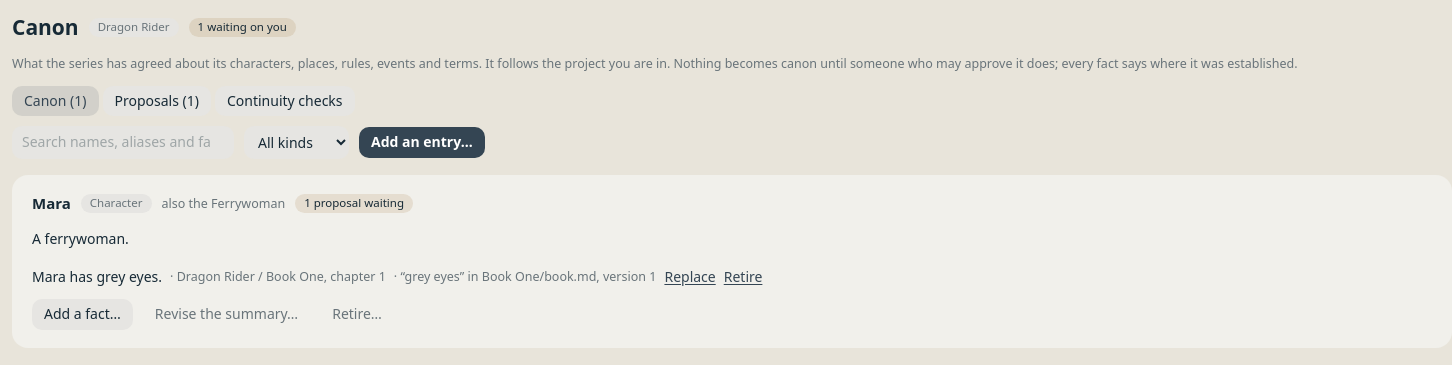
Test: the Canon page › shows the Studio’s own words when a change is refused
Step 1. Click the tab "Proposals (1)" → (157, 101), box [102,86,211,116]
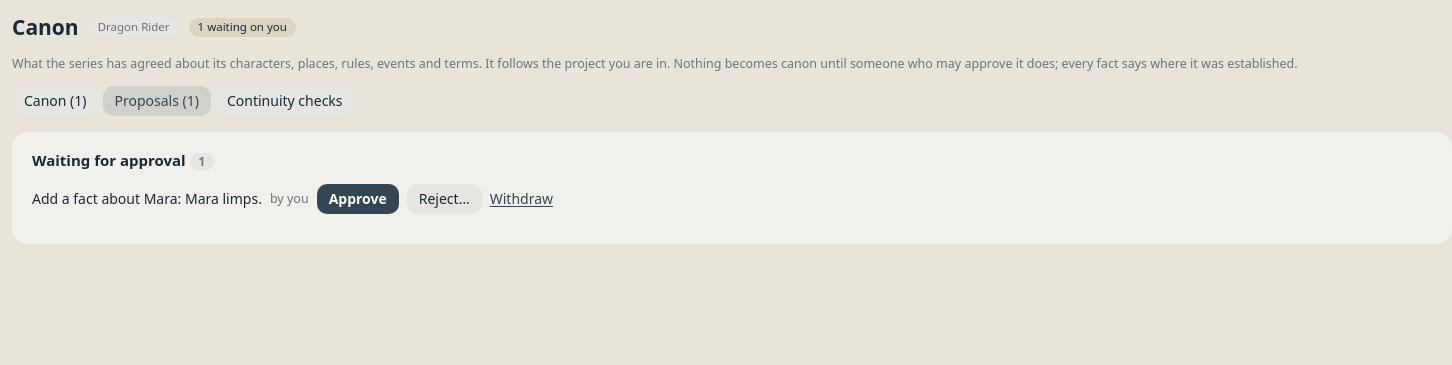
Step 2. Click the button "Approve" → (358, 199), box [317,184,399,214]
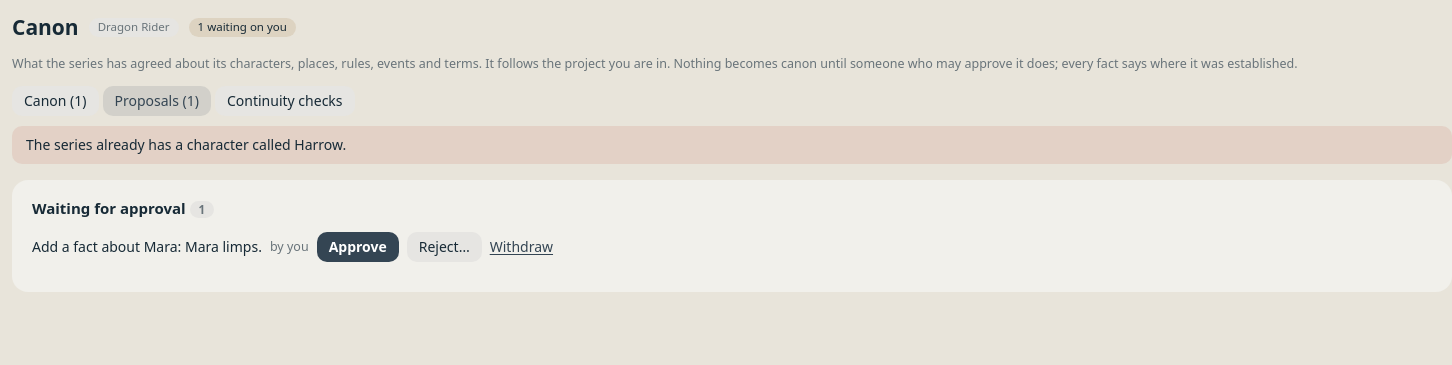
Now the message "The series already has a character called Harrow." is shown, box [12,126,1451,164]
